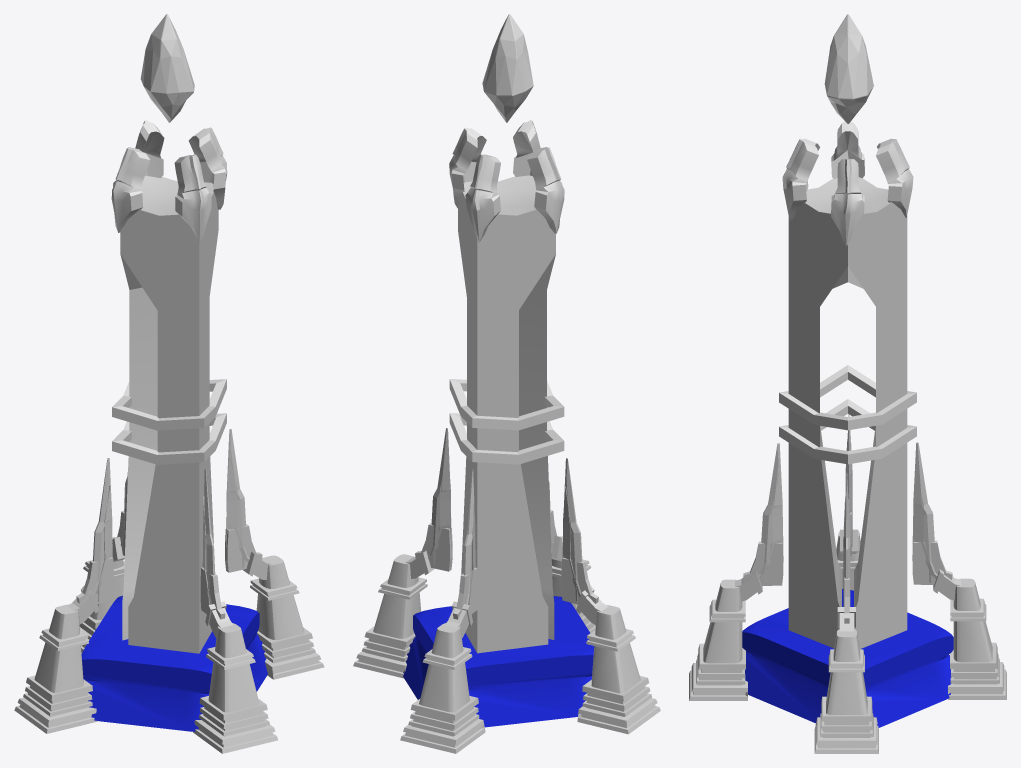
Rendered from Frost Tower.fbx.
3 views of the same model, side by side, from view 1: azimuth 30°, elevation 25°; view 2: azimuth 150°, elevation 25°; view 3: azimuth 270°, elevation 25° (orthographic).
Visible parts, largest first — view 1: Ценрт Столб, Ножки, Подставка, Шипы, Кристалл.001, Узор1, Узор2; view 2: Ценрт Столб, Ножки, Подставка, Шипы, Кристалл.001, Узор1, Узор2; view 3: Ценрт Столб, Ножки, Подставка, Шипы, Кристалл.001, Узор1, Узор2.
Boxes of the visible parts, x1,y1,x2,y2 form: Ценрт Столб: [120, 176, 218, 653]; Ножки: [14, 429, 324, 753]; Подставка: [81, 595, 267, 731]; Шипы: [111, 120, 227, 241]; Кристалл.001: [140, 14, 194, 122]; Узор1: [112, 379, 226, 430]; Узор2: [112, 413, 226, 464]; Ценрт Столб: [458, 175, 555, 653]; Ножки: [353, 428, 660, 753]; Подставка: [403, 596, 594, 727]; Шипы: [449, 120, 564, 242]; Кристалл.001: [482, 14, 533, 122]; Узор1: [449, 379, 564, 430]; Узор2: [449, 413, 564, 464]; Ценрт Столб: [788, 177, 907, 648]; Ножки: [689, 414, 1006, 753]; Подставка: [742, 589, 953, 727]; Шипы: [782, 121, 913, 245]; Кристалл.001: [824, 14, 873, 123]; Узор1: [779, 365, 916, 430]; Узор2: [779, 399, 916, 464].
Bounding box in the file's own units: 4019 × 9498 × 4019.
